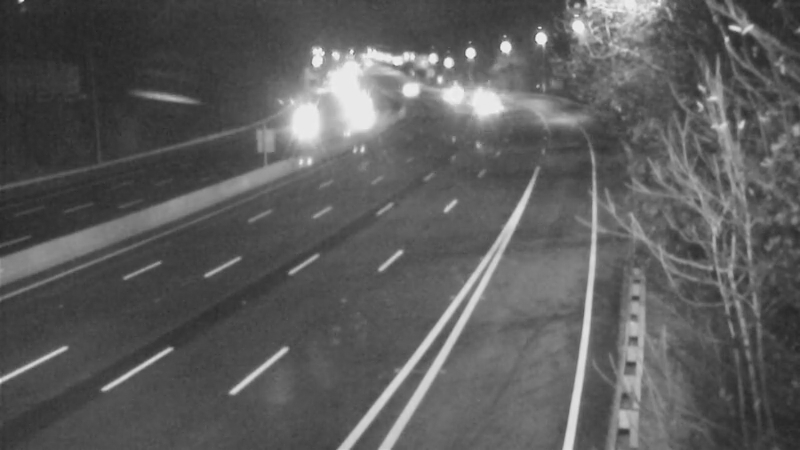vehicle: (379, 63, 429, 113), (423, 63, 473, 113), (457, 72, 507, 122), (470, 79, 520, 129), (278, 97, 328, 147), (334, 89, 384, 139)
